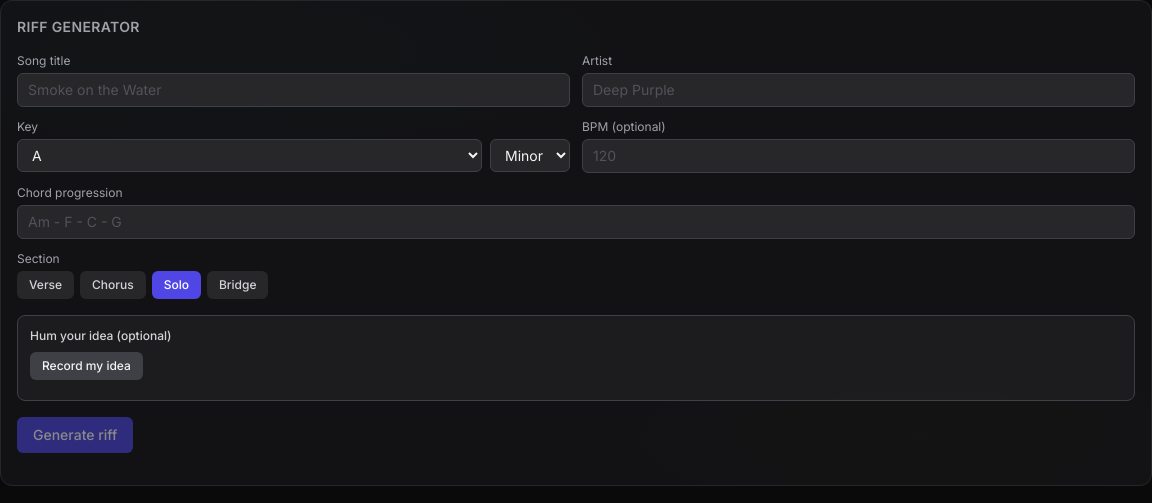
Test: RiffGenerator › generate button is enabled after typing a song title
This screenshot has width=1152, height=503.
Type "Test Song" into the field with placeholder "Smoke on the Water". click: (294, 90)
box: [17,73,570,107]
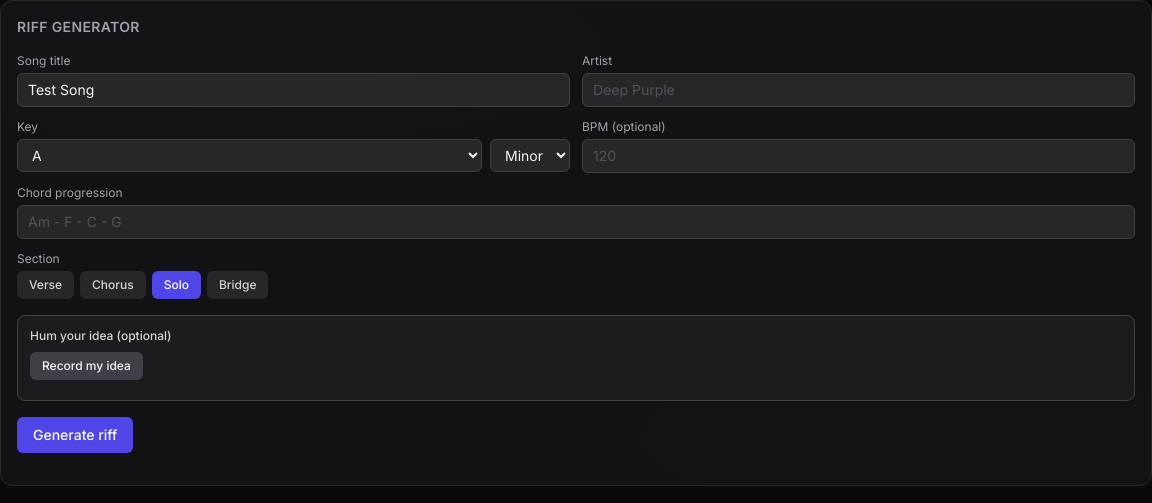
expect the button "Generate riff" is enabled: met, box [17,417,133,453]
